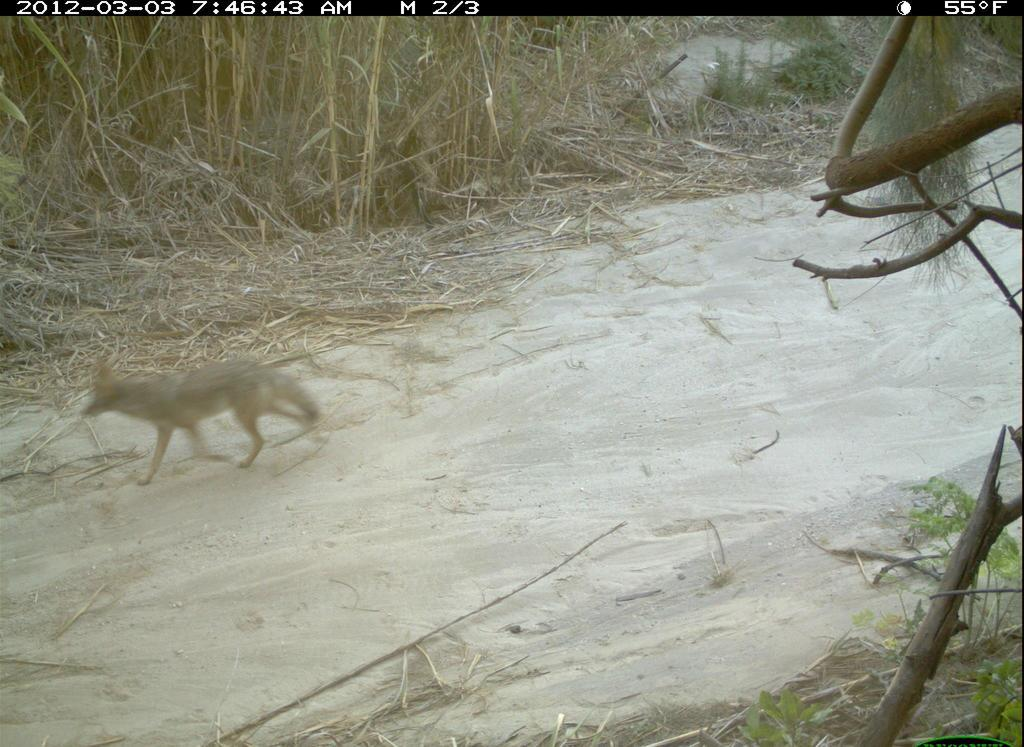coyote: (79, 350, 326, 491)
